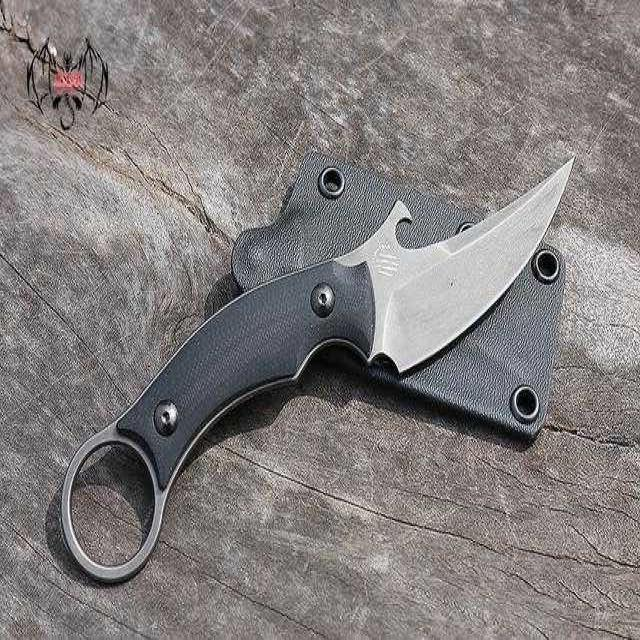Knife: (61, 153, 575, 582)
